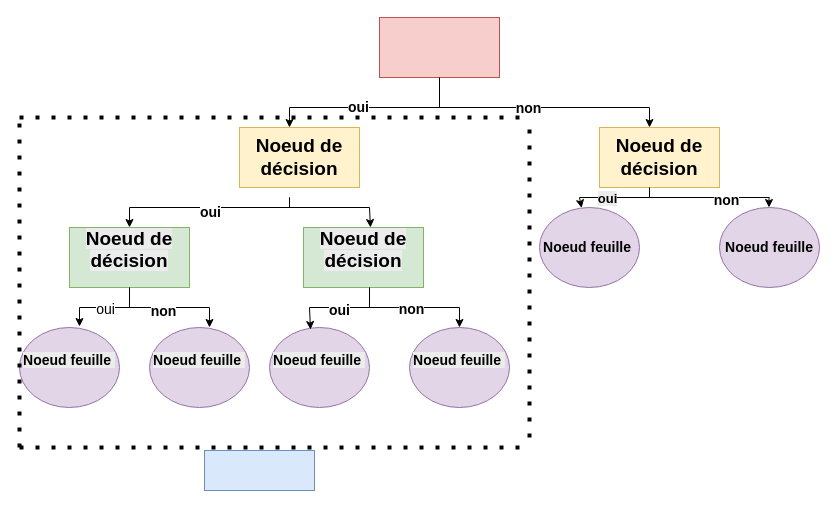
This 837x508 diagram has some shape labels left out. The box of each missing label's shape, as (x1, y1, x2, y2) in pixels:
Branche: (204, 450, 314, 490)
Noeud racine: (378, 16, 500, 78)
